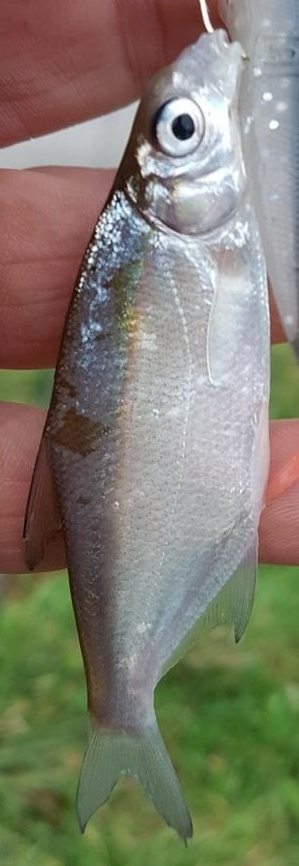Blicca bjoerkna: (20, 20, 279, 846)
